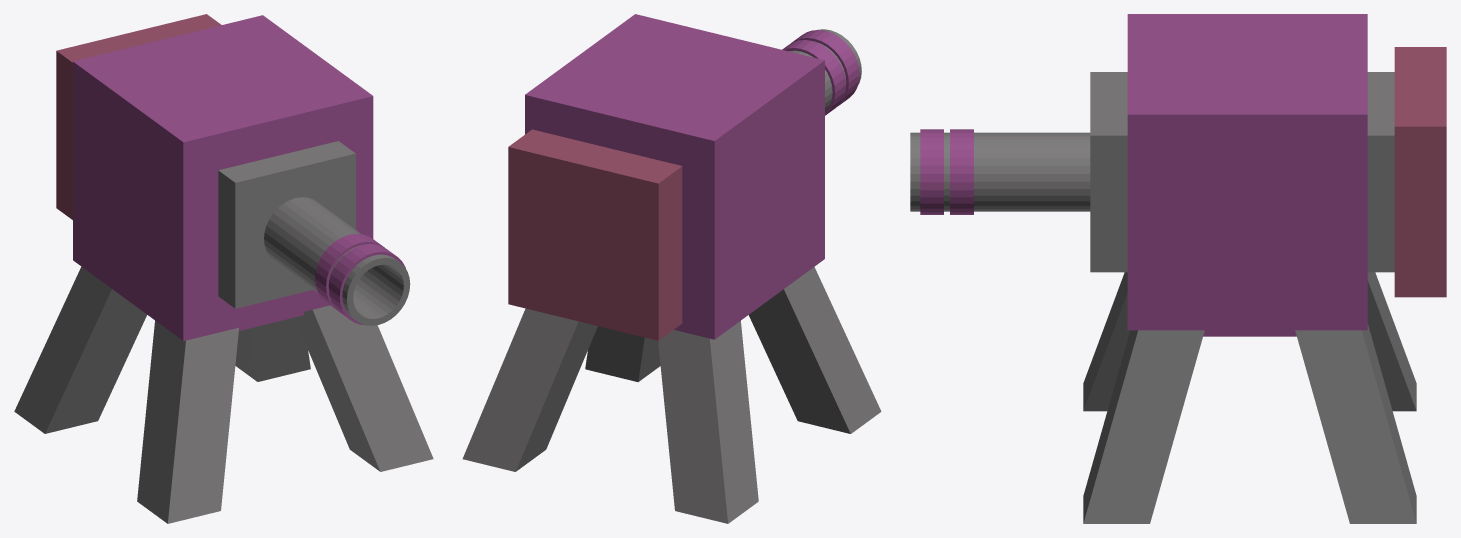
The model's file is turret.gltf.
The picture shows the model from 3 angles, left to right: view 1: azimuth 30°, elevation 25°; view 2: azimuth 150°, elevation 25°; view 3: azimuth 270°, elevation 25°; orthographic projection. The views are drawn at different scales.
Parts seen in each view (by area): view 1: 立方体, 立方体.004; view 2: 立方体, 立方体.004; view 3: 立方体, 立方体.004.
Boxes of the visible parts, x1,y1,x2,y2 form: 立方体: [14, 15, 433, 523]; 立方体.004: [56, 14, 410, 325]; 立方体: [462, 14, 881, 523]; 立方体.004: [508, 29, 861, 340]; 立方体: [1083, 14, 1416, 523]; 立方体.004: [910, 47, 1446, 297].
Bounding box in the file's own units: 1.68 × 2.16 × 2.7.
